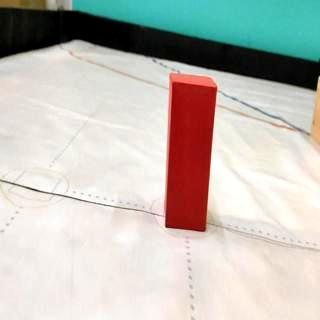redbox: (165, 70, 218, 232)
